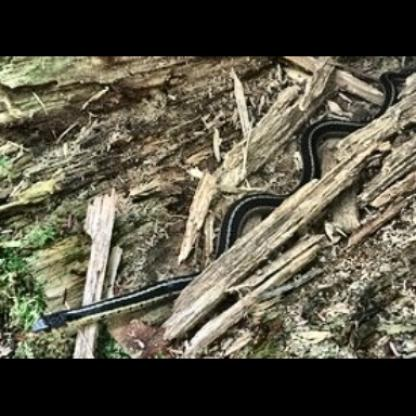Snake: (28, 283, 180, 339)
